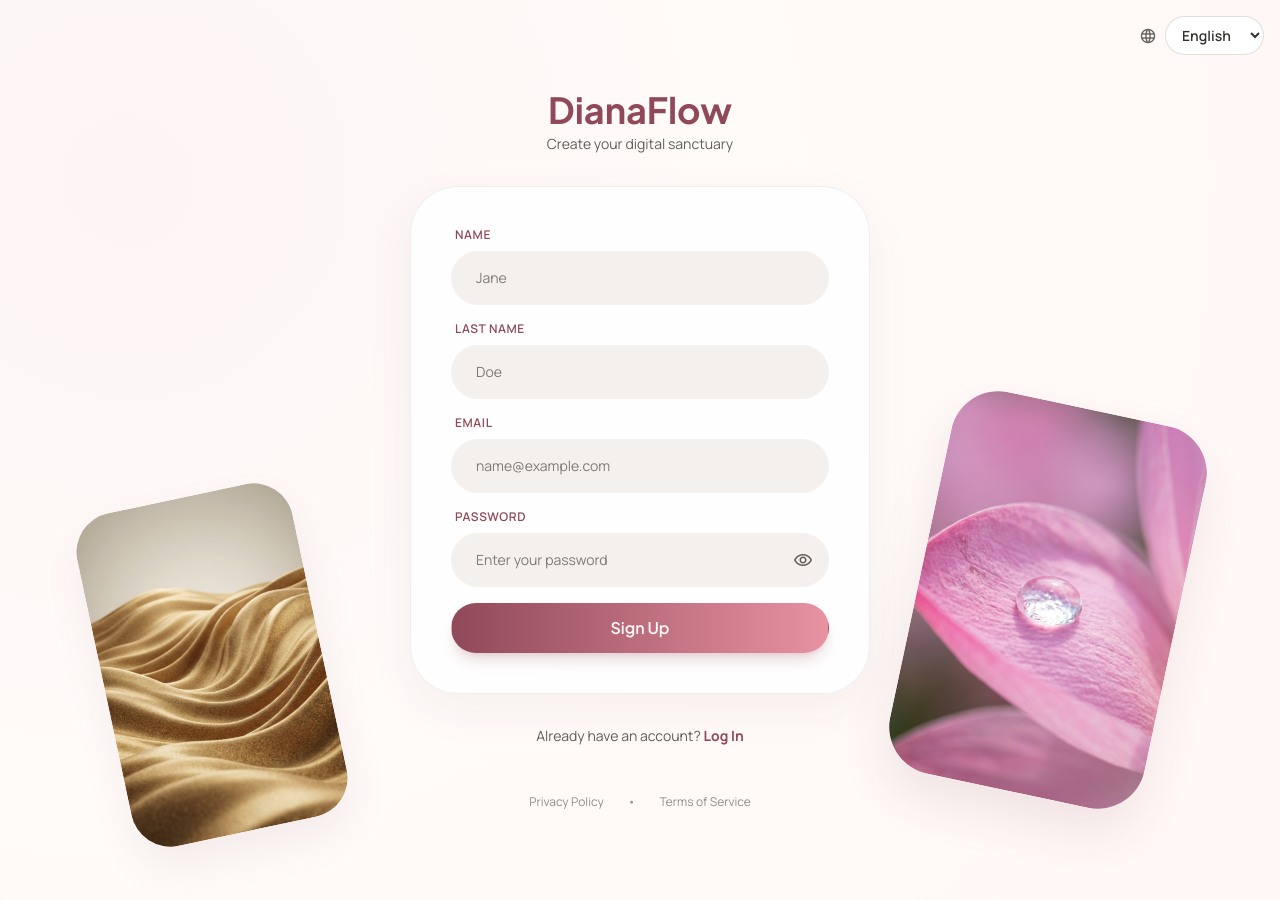
SignUp › marks every missing field inside the input
The width and height of the screenshot is (1280, 900).
Click the button "Sign Up" at (640, 628), box x1=451 y1=603 x2=829 y2=653
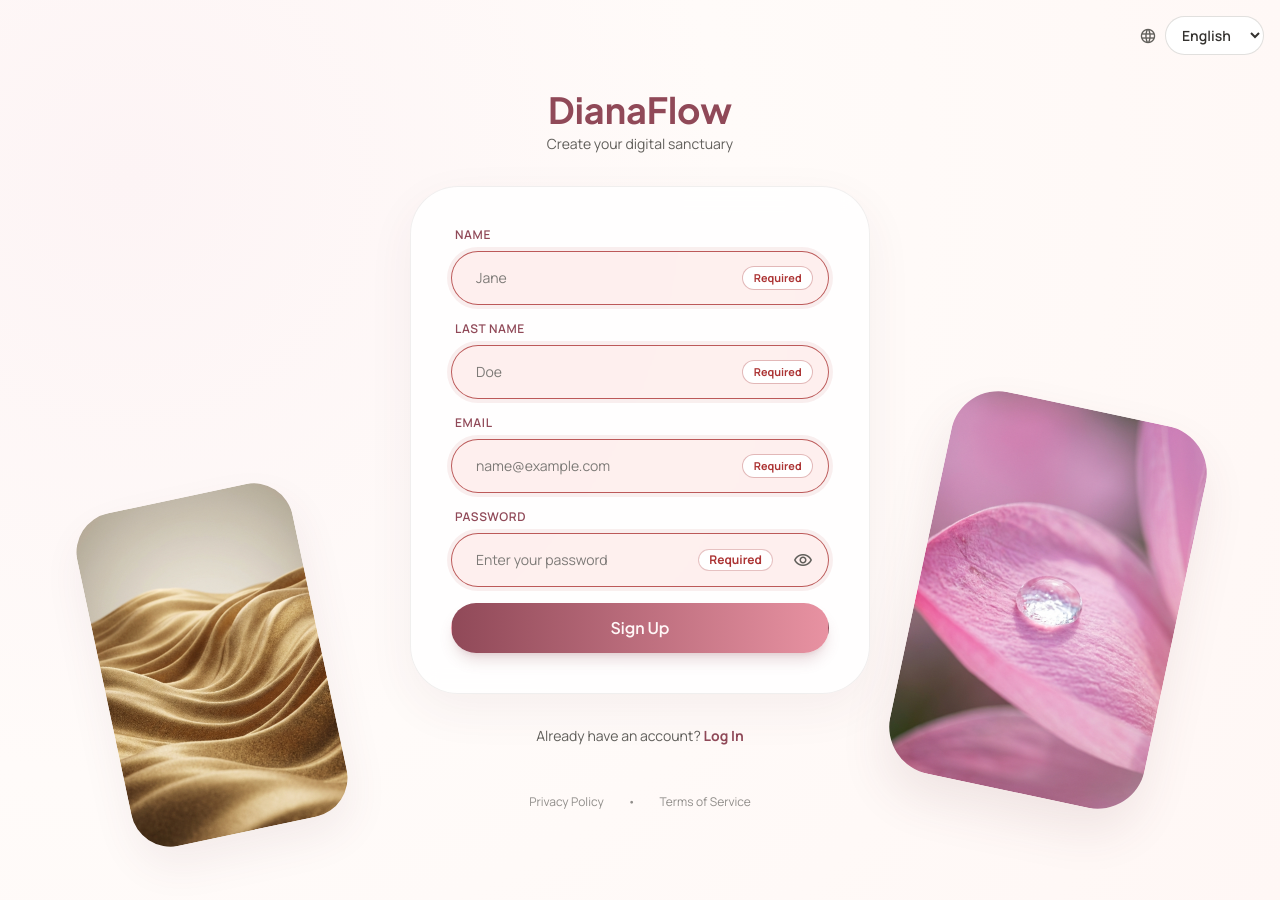
Result: the text "Required" is shown 4 times at x1=742 y1=266 x2=813 y2=290; x1=742 y1=360 x2=813 y2=384; x1=742 y1=454 x2=813 y2=478; x1=698 y1=549 x2=773 y2=571
